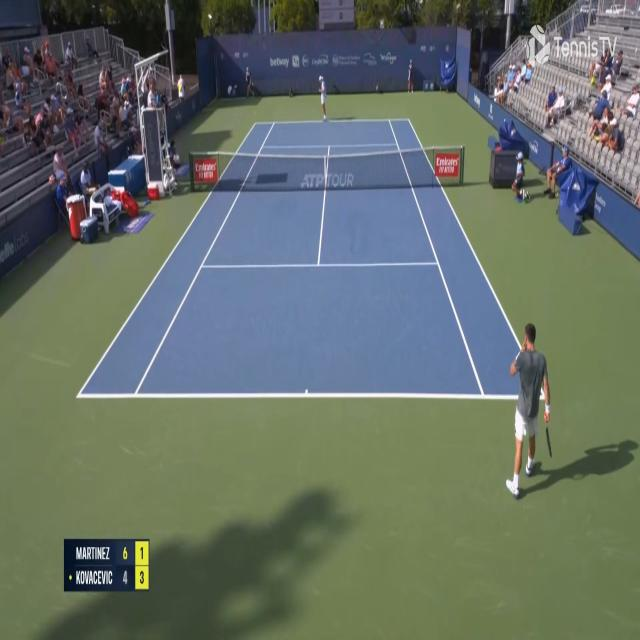tennis-player: (505, 322, 554, 503), (317, 74, 329, 122)
